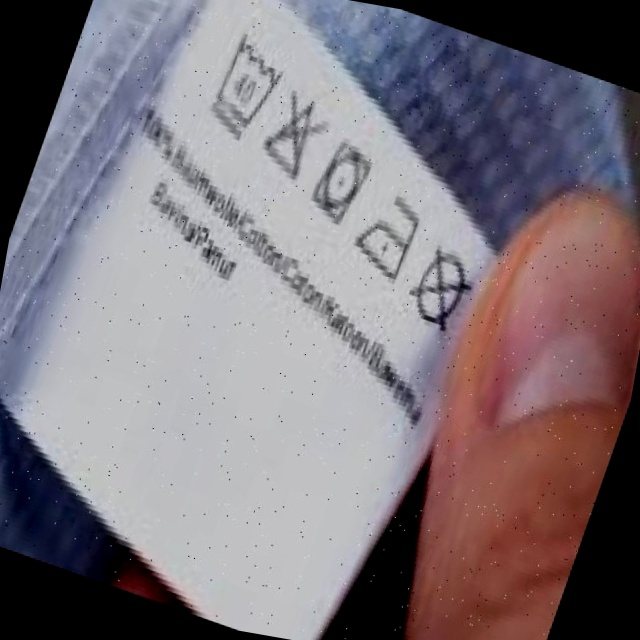40C: (191, 26, 295, 145)
DN_bleach: (249, 84, 338, 189)
DN_dry_clean: (395, 236, 487, 343)
iron_low: (344, 184, 434, 287)
tumble_dry_low: (301, 134, 381, 231)
